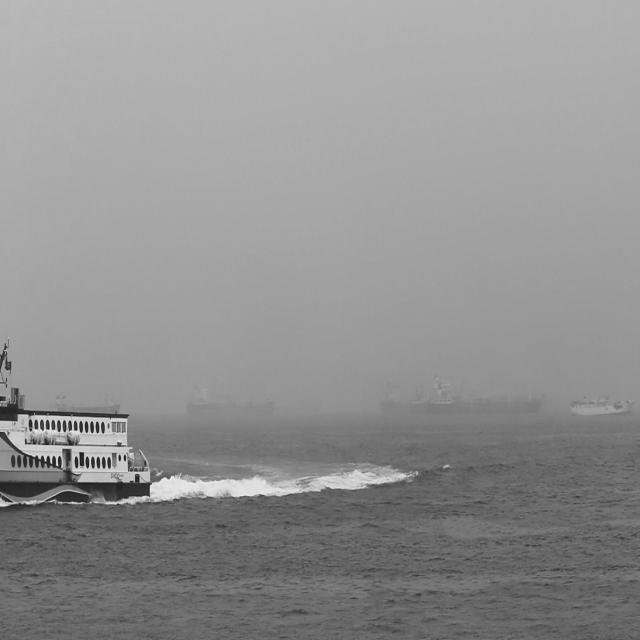ship: (0, 347, 153, 508), (432, 378, 546, 417), (188, 382, 279, 414), (568, 391, 635, 419), (368, 385, 413, 417), (52, 394, 120, 412), (414, 392, 430, 416)
